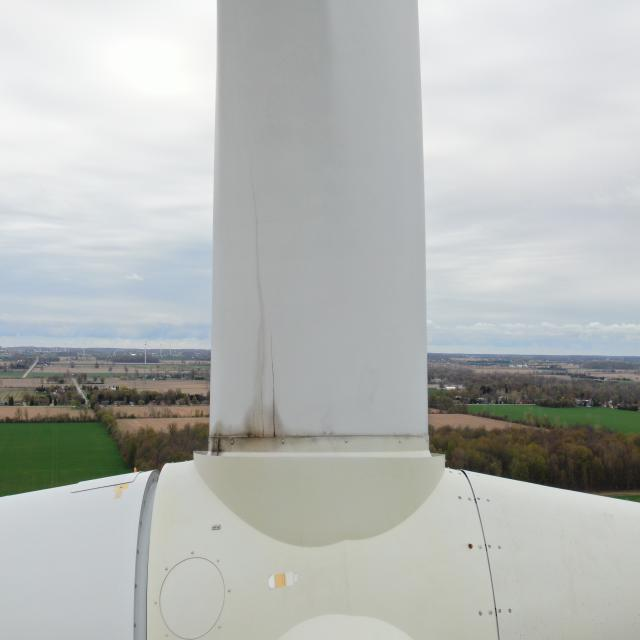damage: (200, 328, 293, 474)
